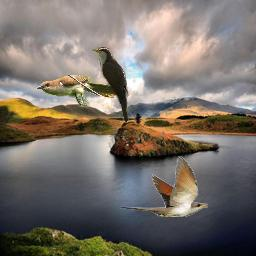Cuckoo: (120, 156, 208, 217), (36, 75, 128, 107), (92, 47, 130, 124)
